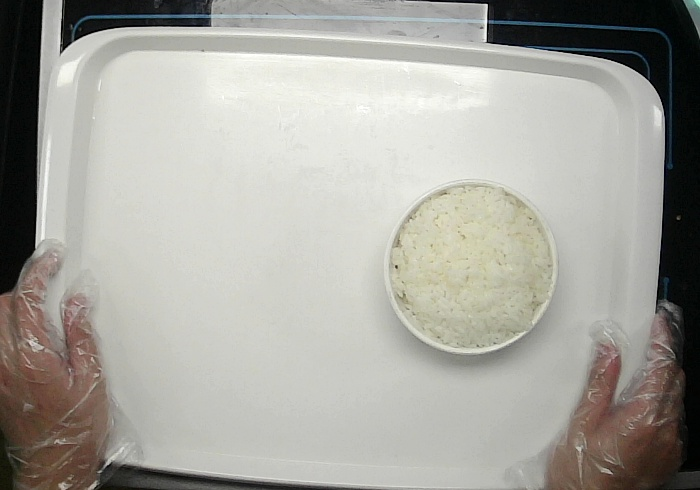HZYJPL-Fan_Wan: (382, 178, 559, 356)
